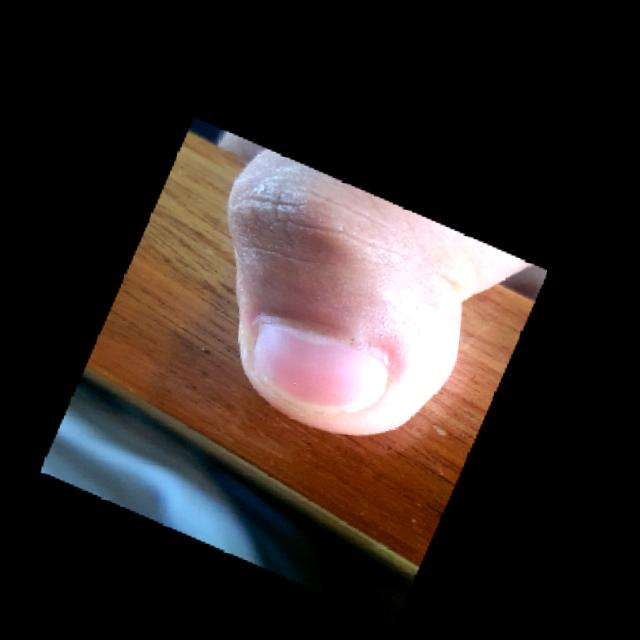Nail: (253, 322, 384, 415)
